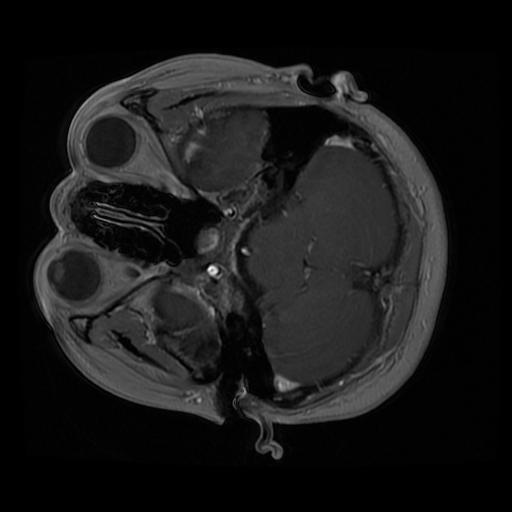pituitary tumour: (193, 216, 238, 274)
